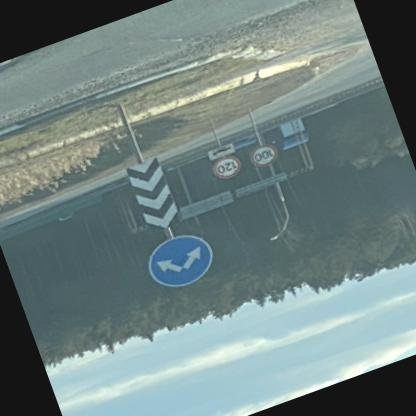speedlimit: (249, 141, 281, 171), (214, 154, 247, 182)
